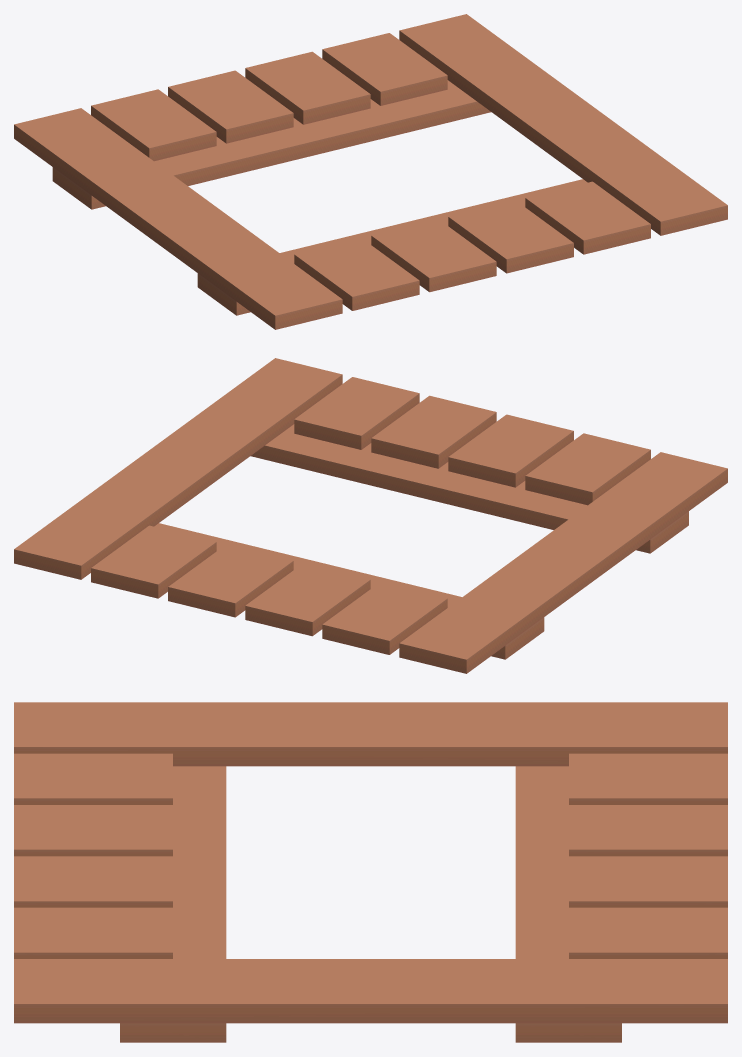
Rendered from planks-opening.glb.
3 renders of one model, top to bottom at view 1: azimuth 30°, elevation 25°; view 2: azimuth 150°, elevation 25°; view 3: azimuth 270°, elevation 25°, orthographic. The views are drawn at different scales.
Parts seen in each view (by area): view 1: planks-opening; view 2: planks-opening; view 3: planks-opening.
Boxes of the visible parts, <box> form: planks-opening: <box>14,14,727,329</box>; planks-opening: <box>14,358,727,673</box>; planks-opening: <box>14,702,727,1042</box>.
Size of the model in its own units: 1 by 0.06 by 1.
Materials: 1 (1 with a texture image).
